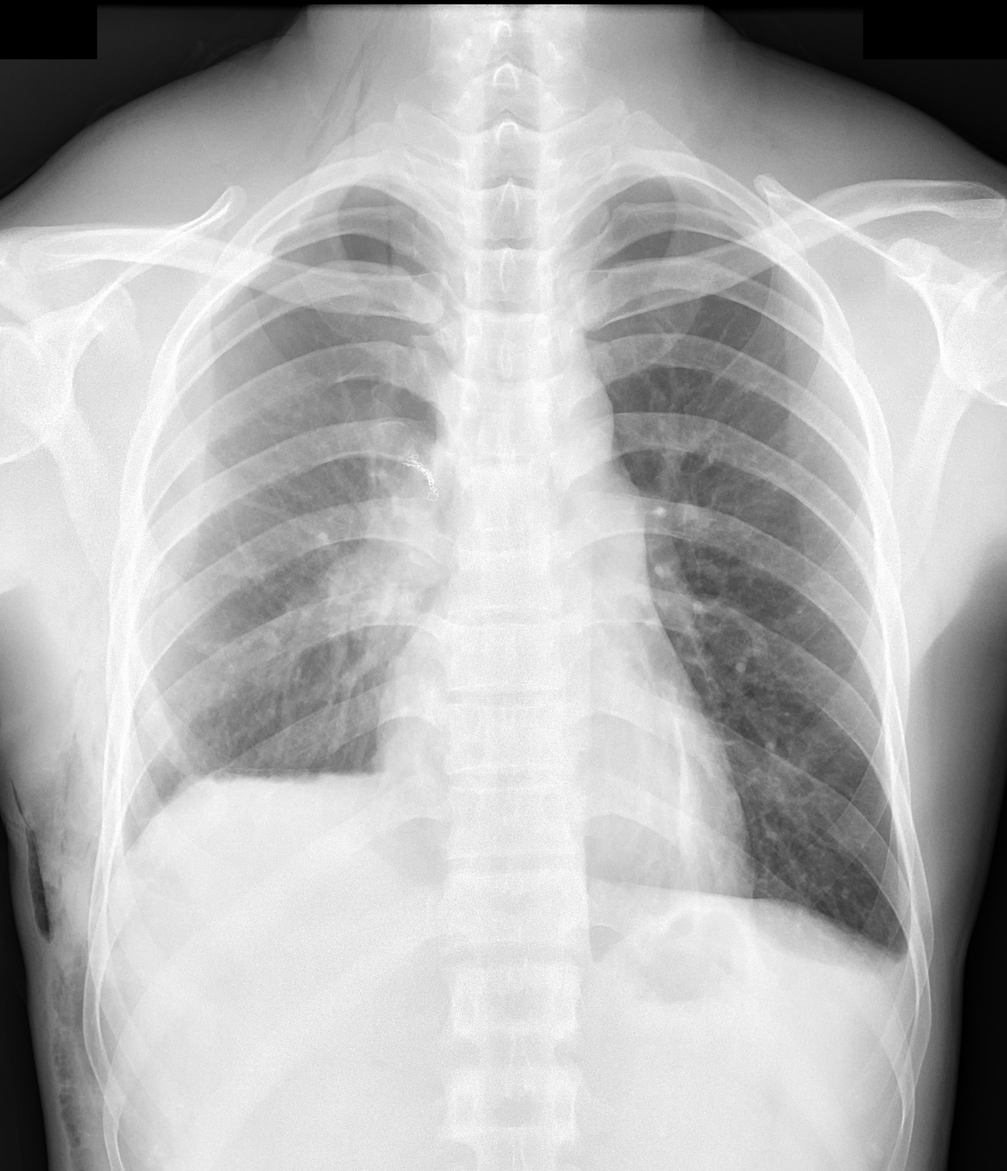Pleural thickening: (212, 192, 321, 310), (881, 908, 926, 1006), (682, 179, 757, 231), (102, 816, 132, 882)
